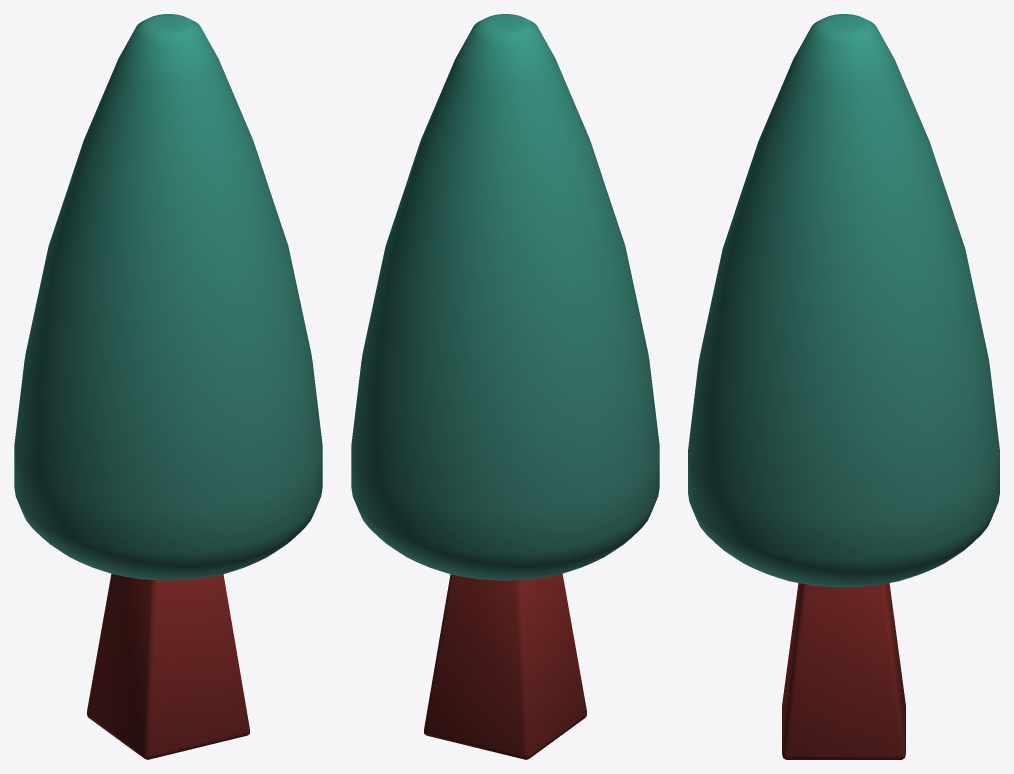
Rendered from StyleTree2.fbx.
The picture shows the model from 3 angles, left to right: view 1: azimuth 30°, elevation 25°; view 2: azimuth 150°, elevation 25°; view 3: azimuth 270°, elevation 25°; orthographic projection.
Parts seen in each view (by area): view 1: Cube; view 2: Cube; view 3: Cube.
Part boxes in pixels (x1,y1,x2,y2): Cube: (14, 14, 322, 759); Cube: (351, 14, 659, 759); Cube: (688, 14, 999, 759).
Bounding box in the file's own units: 142 × 358 × 142.
